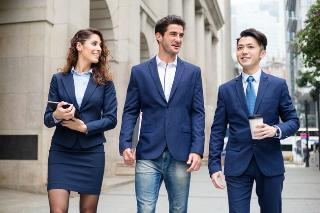person - v3 P: (207, 19, 303, 213), (39, 20, 119, 213), (126, 17, 202, 213)
